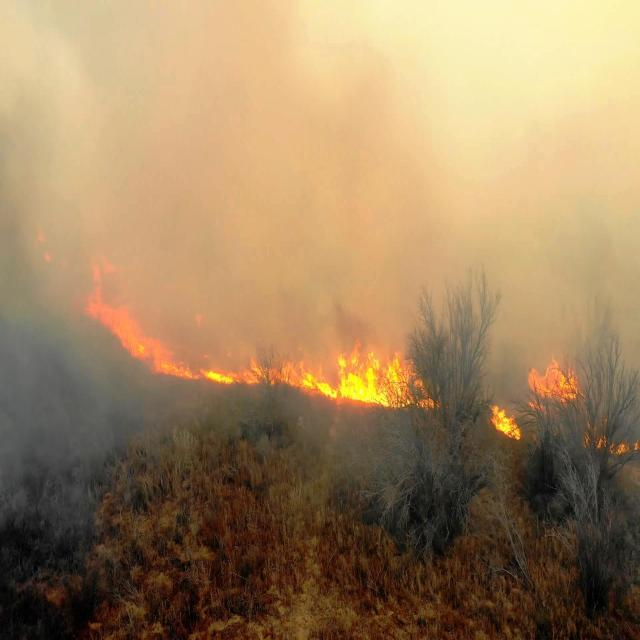Fire: (89, 314, 449, 412), (528, 358, 583, 410), (585, 418, 640, 461), (489, 402, 522, 442)
Smoke: (0, 0, 640, 308), (0, 310, 88, 487), (532, 311, 640, 356), (494, 310, 529, 402)
